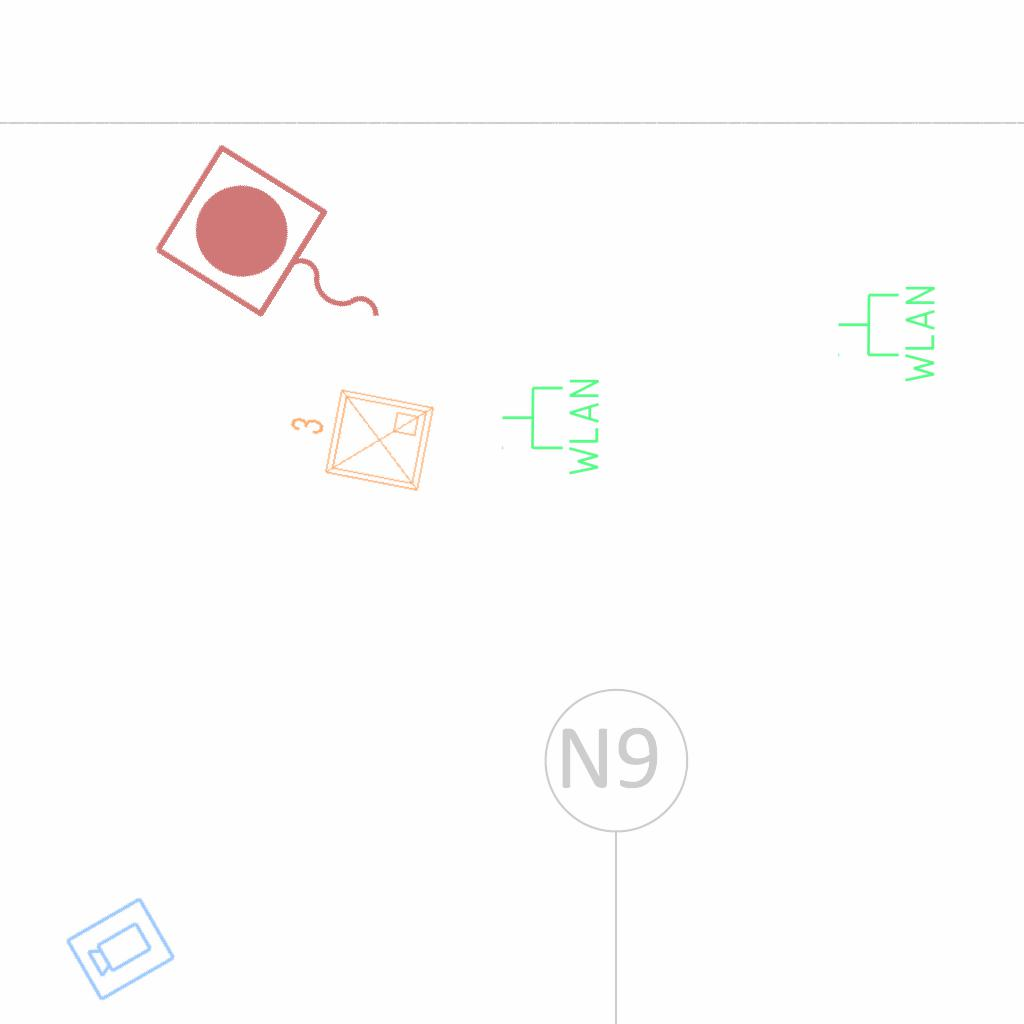Einbaudownlights_LED_Konferenzraeume: (275, 372, 443, 504)
KFO_Kamera_mit_Festobjektiv: (61, 892, 180, 1005)
WLAN: (835, 282, 939, 387), (499, 375, 603, 480)
Zugtaster: (141, 133, 425, 385)
